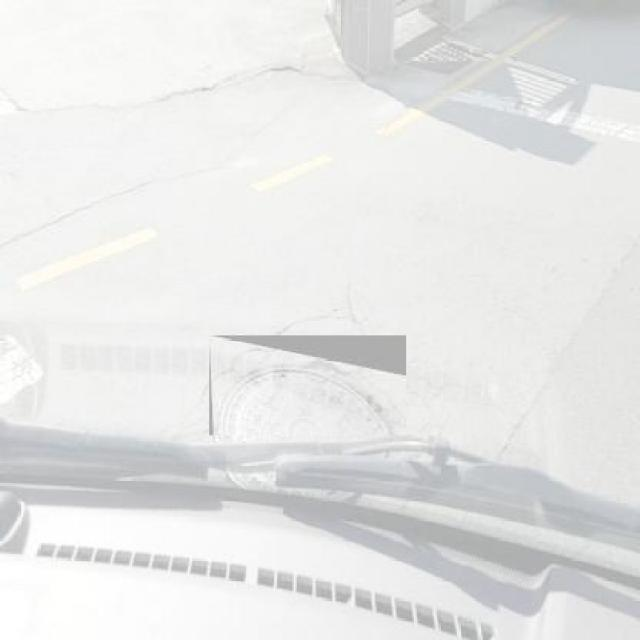Manhole: (210, 336, 407, 436), (492, 57, 574, 116), (406, 37, 486, 78)
